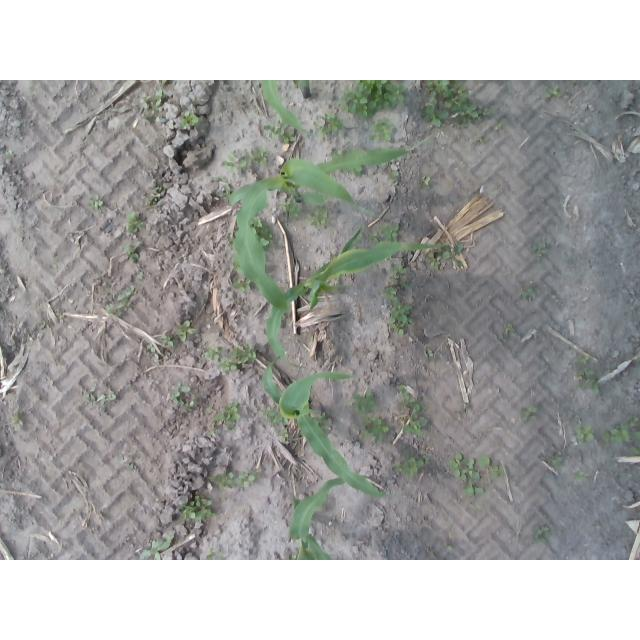Maize: (230, 149, 412, 311), (267, 227, 450, 369), (262, 354, 390, 498), (290, 474, 380, 560), (258, 81, 322, 138)
Weeds: (422, 81, 479, 128), (342, 80, 406, 117), (212, 401, 240, 430), (393, 456, 429, 476), (477, 456, 507, 480), (403, 414, 429, 439), (141, 541, 171, 560), (371, 119, 393, 143), (442, 245, 466, 267), (467, 469, 486, 495), (353, 392, 377, 412), (221, 159, 247, 177), (175, 322, 197, 342), (371, 418, 390, 441), (393, 299, 412, 321), (129, 212, 148, 233), (118, 285, 135, 308), (320, 115, 340, 134), (239, 343, 258, 363), (576, 376, 598, 393), (574, 425, 596, 442), (125, 243, 144, 262), (310, 208, 328, 228), (605, 430, 631, 443), (205, 346, 223, 363), (265, 121, 284, 137), (222, 472, 239, 489), (398, 383, 411, 405), (181, 112, 200, 127), (531, 243, 549, 257), (384, 225, 400, 240), (521, 407, 538, 421), (222, 360, 238, 374), (240, 473, 256, 487), (268, 410, 282, 426), (184, 506, 197, 523), (195, 509, 215, 520), (98, 394, 116, 406), (160, 334, 178, 346), (536, 525, 551, 539), (252, 150, 269, 162), (208, 548, 225, 560), (149, 99, 163, 113), (407, 405, 421, 419), (450, 453, 464, 467), (9, 413, 23, 427), (190, 495, 207, 506), (386, 287, 399, 301), (235, 279, 250, 291), (454, 466, 469, 478), (279, 134, 298, 143), (258, 406, 271, 419), (90, 195, 102, 209), (176, 383, 191, 394), (574, 472, 590, 482), (394, 266, 406, 279), (217, 185, 231, 196), (577, 368, 595, 376), (182, 401, 195, 412), (85, 388, 96, 401), (521, 289, 535, 299), (363, 418, 371, 435), (316, 413, 328, 424), (549, 456, 563, 465), (171, 393, 182, 404), (629, 417, 640, 428), (284, 202, 296, 212), (548, 85, 560, 95), (391, 322, 406, 330), (210, 472, 220, 484), (261, 227, 272, 237), (505, 324, 516, 334), (412, 397, 422, 408), (165, 531, 176, 541), (466, 458, 475, 470), (148, 342, 157, 354), (150, 194, 163, 201), (106, 305, 116, 314), (253, 219, 264, 227), (426, 253, 434, 264), (279, 434, 290, 442), (140, 99, 149, 108), (372, 232, 380, 242), (156, 90, 165, 98), (432, 260, 441, 268), (447, 542, 456, 550), (157, 80, 168, 86), (632, 446, 640, 454), (579, 357, 589, 363), (203, 499, 213, 505), (422, 177, 430, 184), (483, 108, 490, 116), (428, 350, 435, 358), (496, 123, 503, 130), (137, 273, 144, 280), (393, 172, 399, 180), (7, 149, 14, 155), (635, 432, 640, 440), (463, 403, 469, 409), (479, 138, 486, 142)
